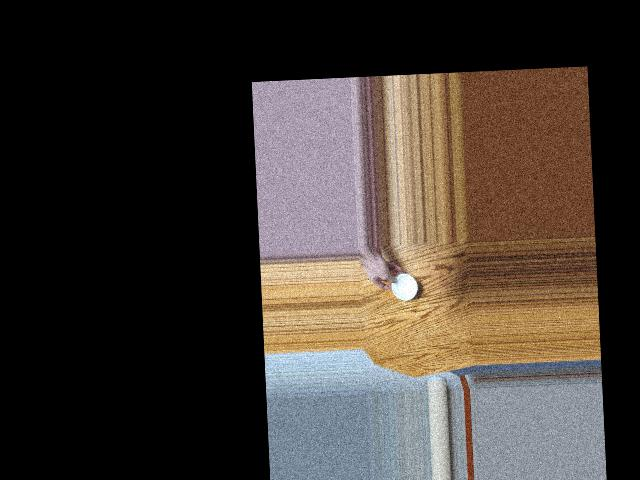cotage: (389, 271, 418, 300)
